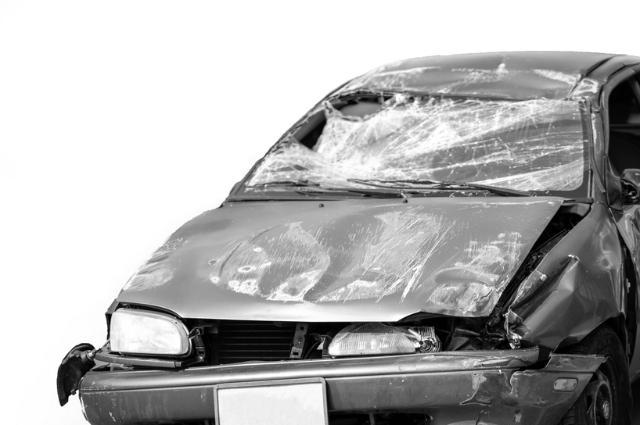Bonnet: (173, 191, 491, 319)
Bumper: (431, 355, 590, 425)
Fender: (519, 235, 624, 343)
Light: (370, 309, 497, 350)
Windshield: (260, 90, 553, 192)
